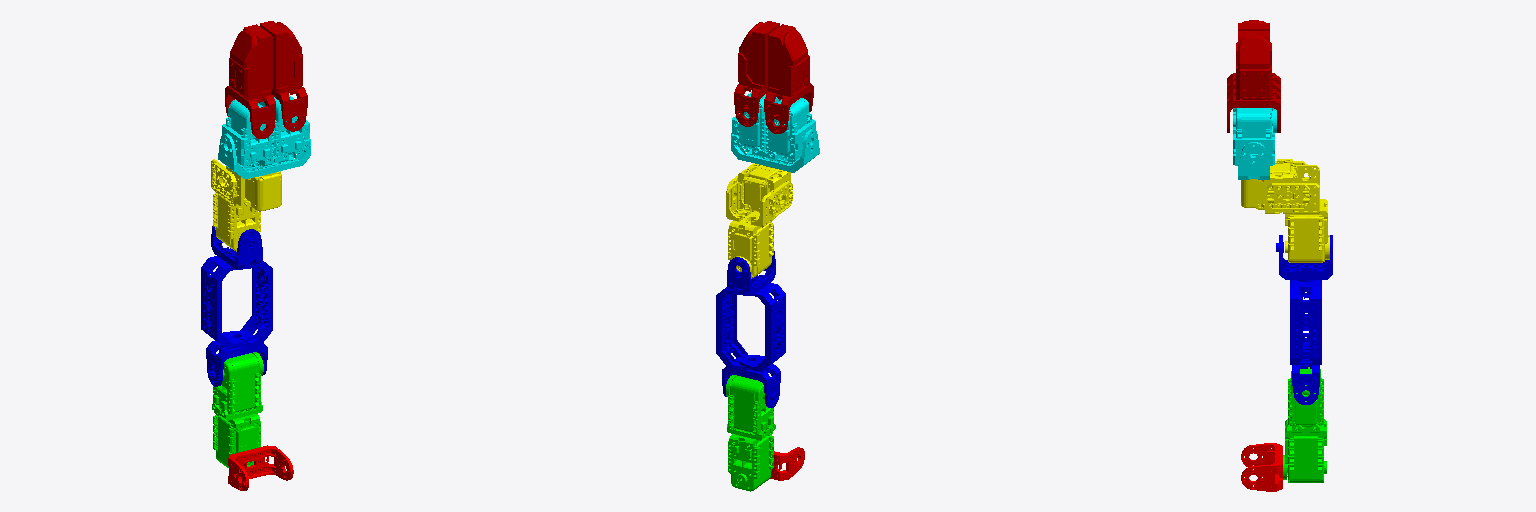
The robot description file, URDF, robot "menorobot_arm":
<robot
  name="menorobot_arm">
  <link
    name="arm_base_link">
    <inertial>
      <origin
        xyz="1.91879319000182E-14 0.0149757573728181 1.30831871085679E-05"
        rpy="0 0 0" />
      <mass
        value="0.0100550254675802" />
      <inertia
        ixx="1.69820016286092E-06"
        ixy="2.01261986400258E-20"
        ixz="1.17142290633904E-18"
        iyy="3.96221114093814E-06"
        iyz="1.03384628484436E-09"
        izz="4.46799312952596E-06" />
    </inertial>
    <visual>
      <origin
        xyz="0 0 0"
        rpy="0 0 0" />
      <geometry>
        <mesh
          filename="package://menorobot_arm/meshes/arm_base_link.STL" />
      </geometry>
      <material
        name="">
        <color
          rgba="1 0 0 1" />
      </material>
    </visual>
    <collision>
      <origin
        xyz="0 0 0"
        rpy="0 0 0" />
      <geometry>
        <mesh
          filename="package://menorobot_arm/meshes/arm_base_link.STL" />
      </geometry>
    </collision>
  </link>
  <link
    name="base_rotation">
    <inertial>
      <origin
        xyz="0.0205666980010871 0.0415000000000002 0.000514826190457321"
        rpy="0 0 0" />
      <mass
        value="0.127929281640091" />
      <inertia
        ixx="0.000131316495270371"
        ixy="1.94594020893845E-06"
        ixz="2.77333288631198E-08"
        iyy="2.09080120563385E-05"
        iyz="1.94594020893845E-06"
        izz="0.000131316495270371" />
    </inertial>
    <visual>
      <origin
        xyz="0 0 0"
        rpy="0 0 0" />
      <geometry>
        <mesh
          filename="package://menorobot_arm/meshes/base_rotation.STL" />
      </geometry>
      <material
        name="">
        <color
          rgba="0 1 0 1" />
      </material>
    </visual>
    <collision>
      <origin
        xyz="0 0 0"
        rpy="0 0 0" />
      <geometry>
        <mesh
          filename="package://menorobot_arm/meshes/base_rotation.STL" />
      </geometry>
    </collision>
  </link>
  <joint
    name="base_rotation_joint"
    type="continuous">
    <origin
      xyz="0 0.0257884758084556 0"
      rpy="1.5707963267949 -6.12303176911189E-17 1.5707963267949" />
    <parent
      link="arm_base_link" />
    <child
      link="base_rotation" />
    <axis
      xyz="1 0 0" />
  </joint>
  <link
    name="shoulder">
    <inertial>
      <origin
        xyz="-0.000162318726515218 0.0670574294931692 -0.00029231872651517"
        rpy="0 0 0" />
      <mass
        value="0.0507586514657532" />
      <inertia
        ixx="0.000102409825452202"
        ixy="-5.3297779721394E-07"
        ixz="4.76406568016614E-10"
        iyy="2.48882155351848E-05"
        iyz="-3.22788608615284E-07"
        izz="9.02855659435373E-05" />
    </inertial>
    <visual>
      <origin
        xyz="0 0 0"
        rpy="0 0 0" />
      <geometry>
        <mesh
          filename="package://menorobot_arm/meshes/shoulder.STL" />
      </geometry>
      <material
        name="">
        <color
          rgba="0 0 1 1" />
      </material>
    </visual>
    <collision>
      <origin
        xyz="0 0 0"
        rpy="0 0 0" />
      <geometry>
        <mesh
          filename="package://menorobot_arm/meshes/shoulder.STL" />
      </geometry>
    </collision>
  </link>
  <joint
    name="shoulder_joint"
    type="continuous">
    <origin
      xyz="0.0210815241915444 0.0830000000000002 0"
      rpy="1.22460635382238E-16 2.46519032881566E-32 -7.49830360911069E-33" />
    <parent
      link="base_rotation" />
    <child
      link="shoulder" />
    <axis
      xyz="0 0 -1" />
  </joint>
  <link
    name="elbow">
    <inertial>
      <origin
        xyz="0.000710215251779244 0.0402266781971522 0.0153611574746248"
        rpy="0 0 0" />
      <mass
        value="0.144465628501558" />
      <inertia
        ixx="0.00015744370235381"
        ixy="2.25777799405982E-06"
        ixz="1.80095416904009E-06"
        iyy="7.33577180850791E-05"
        iyz="5.08783893703287E-05"
        izz="0.000112633396826377" />
    </inertial>
    <visual>
      <origin
        xyz="0 0 0"
        rpy="0 0 0" />
      <geometry>
        <mesh
          filename="package://menorobot_arm/meshes/elbow.STL" />
      </geometry>
      <material
        name="">
        <color
          rgba="1 1 0 1" />
      </material>
    </visual>
    <collision>
      <origin
        xyz="0 0 0"
        rpy="0 0 0" />
      <geometry>
        <mesh
          filename="package://menorobot_arm/meshes/elbow.STL" />
      </geometry>
    </collision>
  </link>
  <joint
    name="elbow_joint"
    type="continuous">
    <origin
      xyz="0 0.1335 -0.000130000000000013"
      rpy="3.14159265358979 -1.5707963267949 3.14159265358979" />
    <parent
      link="shoulder" />
    <child
      link="elbow" />
    <axis
      xyz="0 0 -1" />
  </joint>
  <link
    name="wrist">
    <inertial>
      <origin
        xyz="0.00120272786489395 0.0344306582505975 -0.000868856924944637"
        rpy="0 0 0" />
      <mass
        value="0.147384982382229" />
      <inertia
        ixx="5.36053105115899E-05"
        ixy="1.51610024592716E-07"
        ixz="-1.2157730682374E-08"
        iyy="7.46582174432151E-05"
        iyz="-8.42565225861921E-07"
        izz="9.76702585294648E-05" />
    </inertial>
    <visual>
      <origin
        xyz="0 0 0"
        rpy="0 0 0" />
      <geometry>
        <mesh
          filename="package://menorobot_arm/meshes/wrist.STL" />
      </geometry>
      <material
        name="">
        <color
          rgba="0 1 1 1" />
      </material>
    </visual>
    <collision>
      <origin
        xyz="0 0 0"
        rpy="0 0 0" />
      <geometry>
        <mesh
          filename="package://menorobot_arm/meshes/wrist.STL" />
      </geometry>
    </collision>
  </link>
  <joint
    name="wrist_joint"
    type="continuous">
    <origin
      xyz="0.00150000000000013 0.0813699749999998 0.0463699999999997"
      rpy="0 0 -4.36391374425415E-16" />
    <parent
      link="elbow" />
    <child
      link="wrist" />
    <axis
      xyz="0 1 0" />
  </joint>
  <link
    name="right_finger">
    <inertial>
      <origin
        xyz="-0.000151371142906034 0.000935845560432531 -0.044276000091404"
        rpy="0 0 0" />
      <mass
        value="0.0480811535085288" />
      <inertia
        ixx="2.47910111127092E-05"
        ixy="1.4849861915058E-08"
        ixz="-2.3627249934589E-09"
        iyy="2.77798865720319E-05"
        iyz="-1.06748481853198E-06"
        izz="9.44897318313353E-06" />
    </inertial>
    <visual>
      <origin
        xyz="0 0 0"
        rpy="0 0 0" />
      <geometry>
        <mesh
          filename="package://menorobot_arm/meshes/right_finger.STL" />
      </geometry>
      <material
        name="">
        <color
          rgba="0.752941176470588 0 0 1" />
      </material>
    </visual>
    <collision>
      <origin
        xyz="0 0 0"
        rpy="0 0 0" />
      <geometry>
        <mesh
          filename="package://menorobot_arm/meshes/right_finger.STL" />
      </geometry>
    </collision>
  </link>
  <joint
    name="right_finger_joint"
    type="continuous">
    <origin
      xyz="-0.0147499999999999 0.051500025 0"
      rpy="1.5707963267949 1.5707963267949 0" />
    <parent
      link="wrist" />
    <child
      link="right_finger" />
    <axis
      xyz="1 0 0" />
  </joint>
  <link
    name="left_finger">
    <inertial>
      <origin
        xyz="-0.000108628857094848 0.0163141544395675 -0.045776025091404"
        rpy="0 0 0" />
      <mass
        value="0.0480811535085288" />
      <inertia
        ixx="2.47910111127093E-05"
        ixy="1.48498619150544E-08"
        ixz="2.36272499342004E-09"
        iyy="2.77798865720319E-05"
        iyz="1.06748481853197E-06"
        izz="9.44897318313353E-06" />
    </inertial>
    <visual>
      <origin
        xyz="0 0 0"
        rpy="0 0 0" />
      <geometry>
        <mesh
          filename="package://menorobot_arm/meshes/left_finger.STL" />
      </geometry>
      <material
        name="">
        <color
          rgba="0.752941176470588 0 0 1" />
      </material>
    </visual>
    <collision>
      <origin
        xyz="0 0 0"
        rpy="0 0 0" />
      <geometry>
        <mesh
          filename="package://menorobot_arm/meshes/left_finger.STL" />
      </geometry>
    </collision>
  </link>
  <joint
    name="left_finger_joint"
    type="continuous">
    <origin
      xyz="0 0.05 0"
      rpy="1.5707963267949 1.5707963267949 0" />
    <parent
      link="wrist" />
    <child
      link="left_finger" />
    <axis
      xyz="1 0 0" />
  </joint>
</robot>

--- Render facts (derived) ---
Views: 3 orthographic renders of the robot side by side, from view 1: azimuth 30°, elevation 25°; view 2: azimuth 150°, elevation 25°; view 3: azimuth 270°, elevation 25°.
Model menorobot_arm with 7 links and 6 joints (6 continuous), rooted at arm_base_link, posed all joints at 0.
Visible links, largest first — view 1: shoulder, wrist, base_rotation, right_finger, elbow, left_finger, arm_base_link; view 2: shoulder, elbow, base_rotation, wrist, right_finger, left_finger, arm_base_link; view 3: elbow, shoulder, base_rotation, left_finger, wrist, arm_base_link, right_finger.
Link boxes in pixels (x1,y1,x2,y2): shoulder: [201, 226, 272, 386]; wrist: [218, 95, 310, 179]; base_rotation: [212, 352, 263, 467]; right_finger: [225, 24, 275, 138]; elbow: [211, 159, 281, 251]; left_finger: [260, 21, 307, 131]; arm_base_link: [228, 445, 293, 490]; shoulder: [716, 251, 785, 407]; elbow: [726, 163, 792, 278]; base_rotation: [726, 375, 775, 491]; wrist: [731, 92, 819, 172]; right_finger: [764, 24, 813, 133]; left_finger: [734, 21, 780, 126]; arm_base_link: [770, 447, 804, 480]; elbow: [1241, 159, 1329, 262]; shoulder: [1276, 235, 1332, 404]; base_rotation: [1283, 367, 1326, 482]; left_finger: [1227, 31, 1280, 132]; wrist: [1233, 108, 1276, 179]; arm_base_link: [1241, 443, 1282, 491]; right_finger: [1227, 20, 1280, 92].
Size in the robot's own frame: 0.0785 by 0.0953 by 0.4452 metres.
Meshes: 7 distinct files referenced, 7 mesh visuals loaded (7 binary STL).